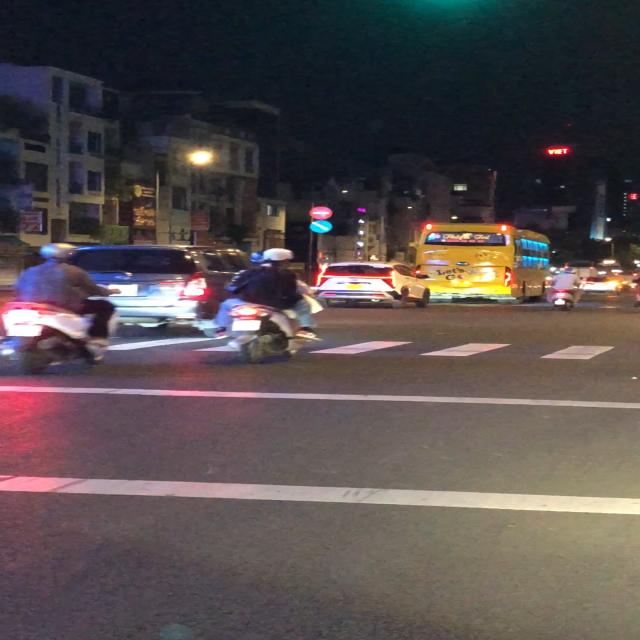Bien bao cam di nguoc chieu: (308, 206, 334, 220)
Bien bao huong phai di vong chuong ngai vat: (309, 220, 333, 235)
